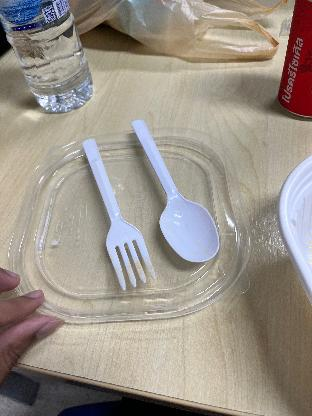Others: (116, 113, 223, 265), (76, 137, 158, 293)
